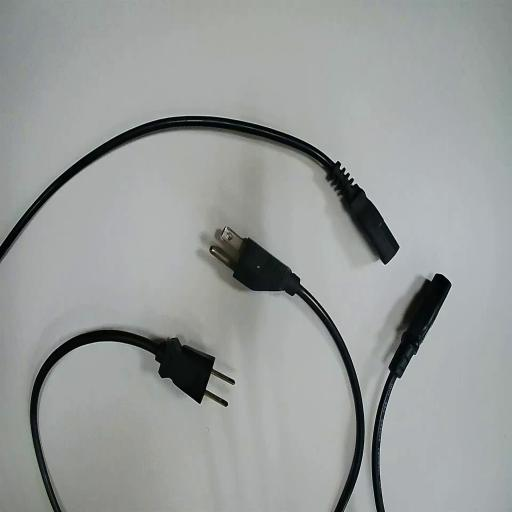wire: (0, 117, 397, 262), (211, 239, 363, 511), (30, 330, 232, 511), (372, 275, 449, 511)
